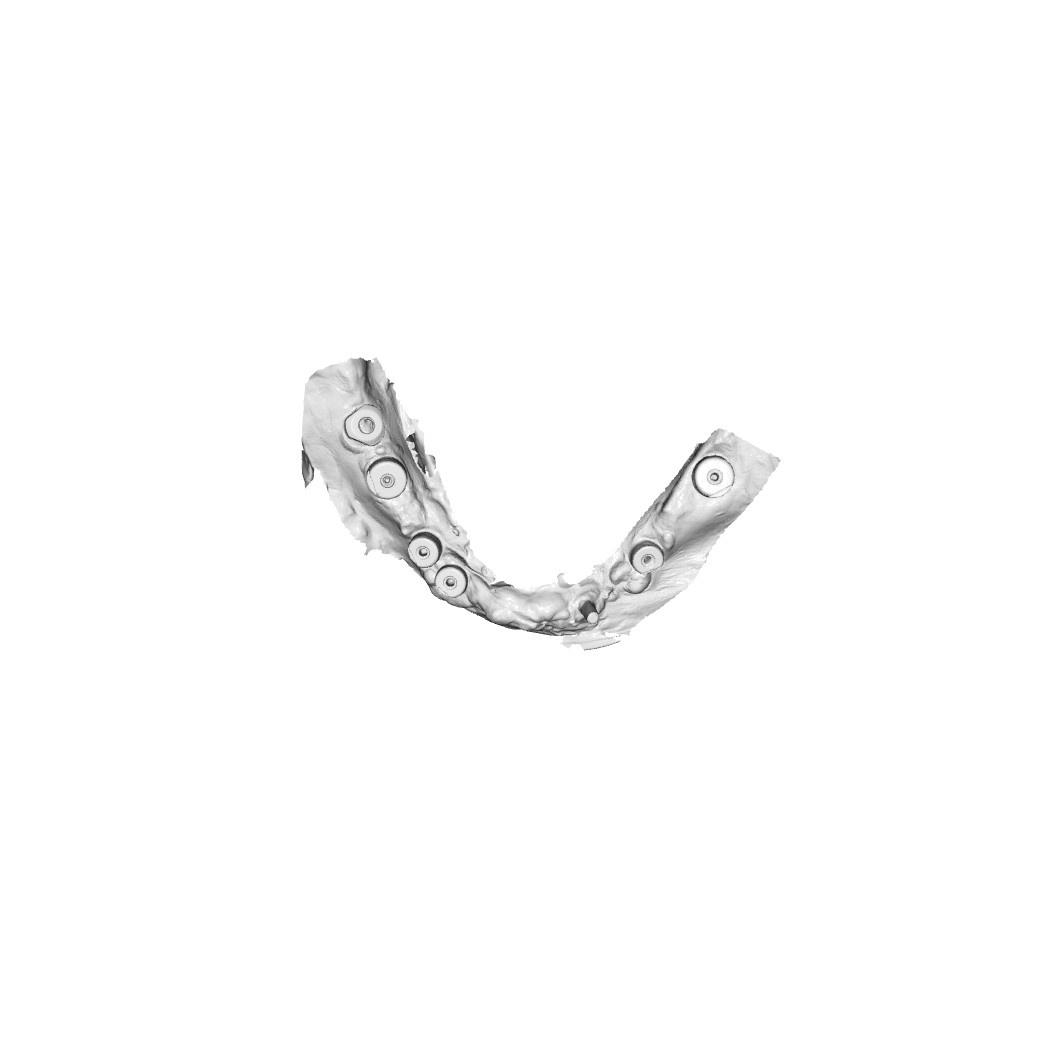abutment: (577, 599, 600, 625)
implant: (691, 455, 736, 499), (365, 456, 409, 501), (343, 403, 387, 447), (406, 531, 443, 569), (628, 540, 665, 575), (434, 564, 469, 599)
